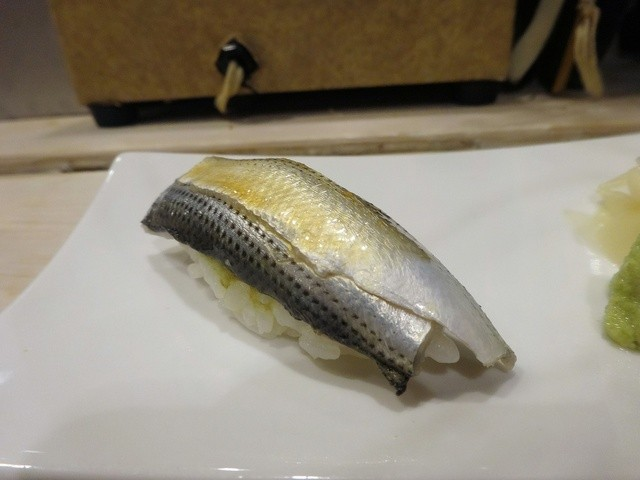spotted-shad: (140, 155, 521, 403)
